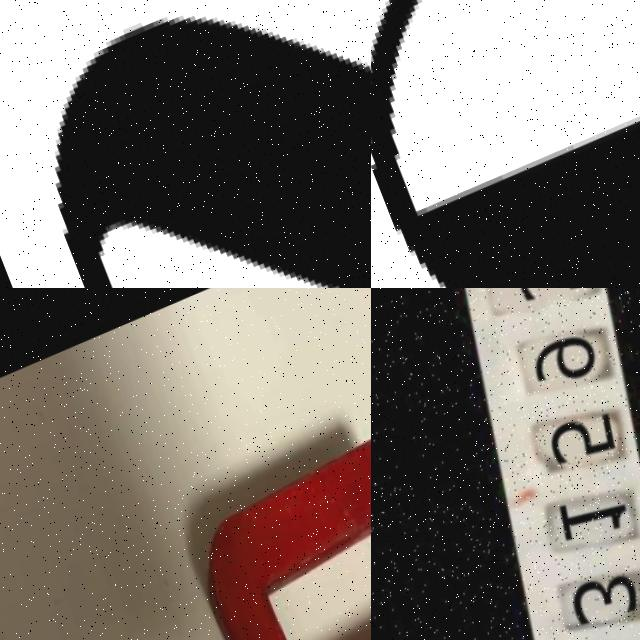1: (541, 475, 640, 574)
3: (550, 555, 640, 640), (492, 288, 609, 334)
5: (529, 398, 639, 498)
9: (512, 316, 622, 415)
C: (371, 0, 640, 288)
S: (18, 0, 371, 288)
U: (175, 425, 371, 640)
